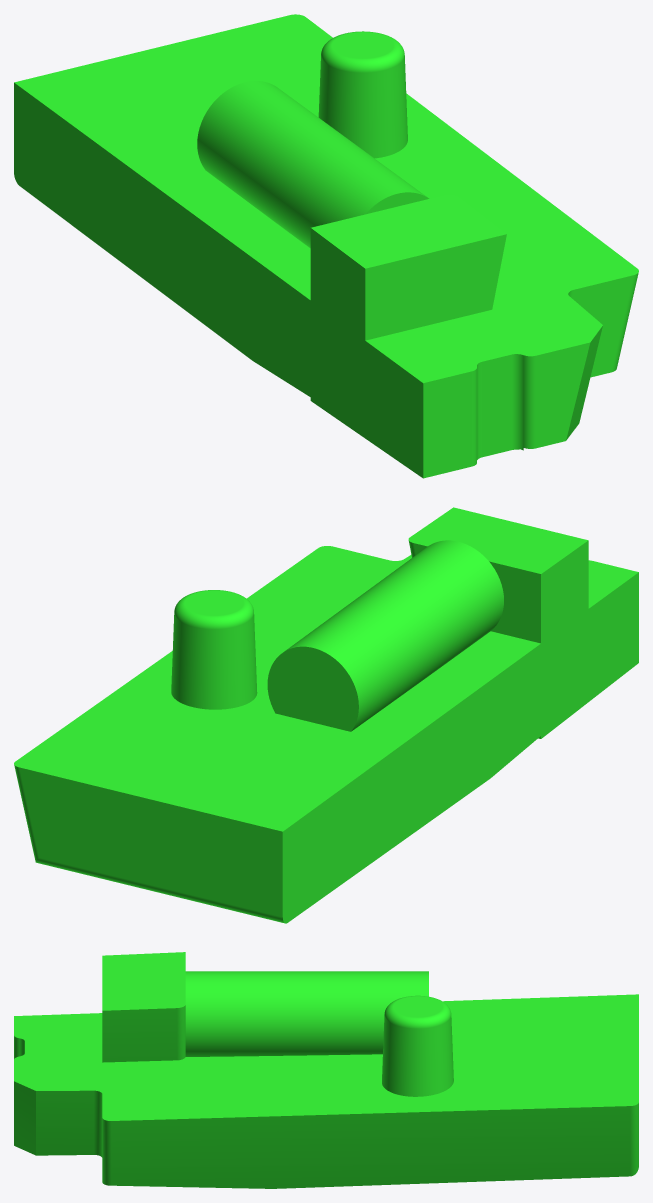
Rendered from _2025_Drivetrain_Kraken_Motors_R1.obj.
3 renders of one model, top to bottom at view 1: azimuth 30°, elevation 25°; view 2: azimuth 150°, elevation 25°; view 3: azimuth 270°, elevation 25°, orthographic. The views are drawn at different scales.
Parts seen in each view (by area): view 1: mesh17791, mesh17764, mesh17753, mesh17762, mesh17761, mesh17792, mesh17771, mesh17783, mesh17789, mesh17779, mesh17755, mesh17793 (+5 smaller); view 2: mesh17791, mesh17764, mesh17765, mesh17753, mesh17756, mesh17761, mesh17792, mesh17755, mesh17757, mesh17793, mesh17766, mesh17796 (+1 smaller); view 3: mesh17791, mesh17770, mesh17753, mesh17793, mesh17761, mesh17754, mesh17763, mesh17785, mesh17784, mesh17794, mesh17796, mesh17788 (+3 smaller).
Part boxes in pixels (x1,y1,x2,y2): mesh17791: [14, 14, 638, 383]; mesh17764: [14, 82, 423, 478]; mesh17753: [197, 81, 427, 227]; mesh17762: [365, 234, 506, 340]; mesh17761: [311, 194, 506, 268]; mesh17792: [318, 56, 385, 158]; mesh17771: [423, 371, 471, 478]; mesh17783: [536, 342, 589, 448]; mesh17789: [572, 275, 632, 377]; mesh17779: [482, 355, 511, 457]; mesh17755: [197, 144, 310, 248]; mesh17793: [384, 55, 407, 156]; mesh17791: [14, 546, 638, 831]; mesh17764: [282, 540, 638, 923]; mesh17765: [19, 767, 282, 916]; mesh17753: [285, 540, 503, 706]; mesh17756: [267, 646, 358, 731]; mesh17761: [408, 507, 587, 573]; mesh17792: [192, 614, 257, 709]; mesh17755: [351, 601, 503, 731]; mesh17757: [489, 561, 540, 643]; mesh17793: [171, 614, 194, 706]; mesh17766: [36, 858, 284, 923]; mesh17796: [184, 591, 243, 615]; mesh17791: [14, 994, 638, 1120]; mesh17770: [111, 1106, 630, 1188]; mesh17753: [185, 971, 428, 1034]; mesh17793: [382, 1015, 453, 1096]; mesh17761: [102, 952, 185, 1010]; mesh17754: [185, 1034, 383, 1056]; mesh17763: [102, 1008, 176, 1062]; mesh17785: [36, 1090, 93, 1155]; mesh17784: [14, 1081, 35, 1155]; mesh17794: [384, 1007, 451, 1028]; mesh17796: [393, 996, 442, 1017]; mesh17788: [102, 1118, 111, 1185].
Bounding box in the file's own units: 0.00611 × 0.004 × 0.0141.
